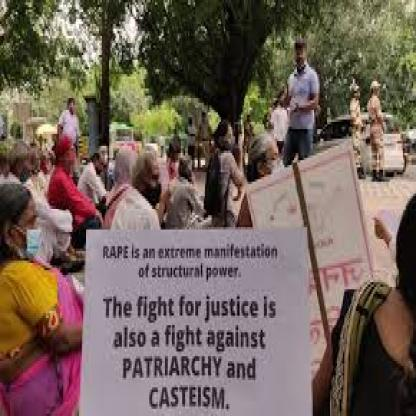BANNER: (76, 227, 314, 416)
